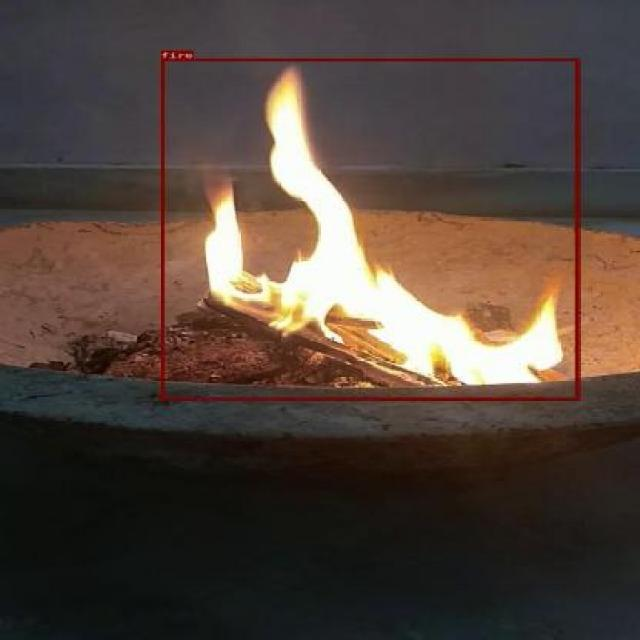Fire: (159, 58, 578, 400)
